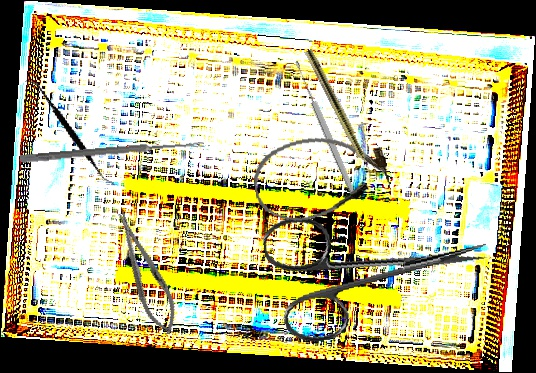Cannula: (248, 127, 394, 228)
Handpiece: (302, 48, 379, 183)
Iris Scissors: (259, 185, 498, 349)
Needle Holder: (106, 206, 186, 340)
Spatula Surgical: (1, 78, 138, 186)
Surgical Spoon: (293, 59, 358, 199), (19, 138, 205, 165)
